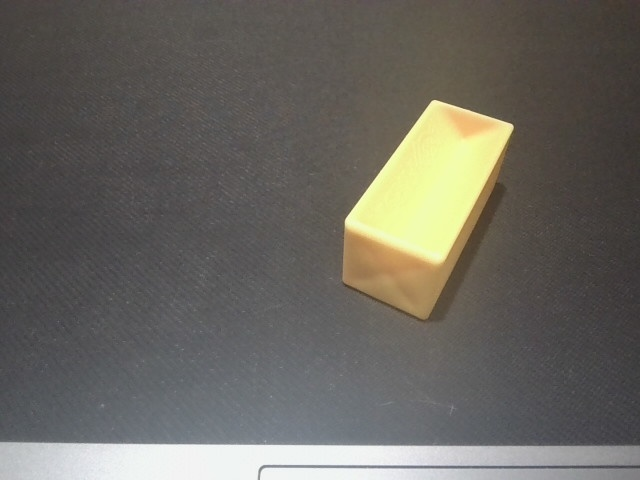YellowSample: (337, 97, 517, 326)
